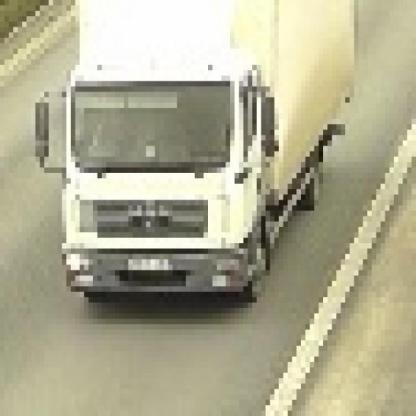truck: (36, 1, 355, 309)
